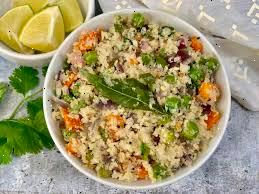upma: (72, 22, 212, 173)
